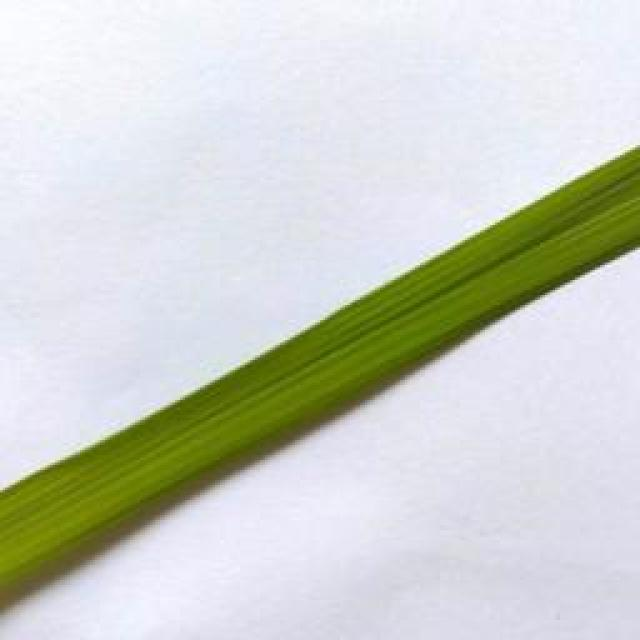Healthy-Plant: (0, 135, 640, 602)
